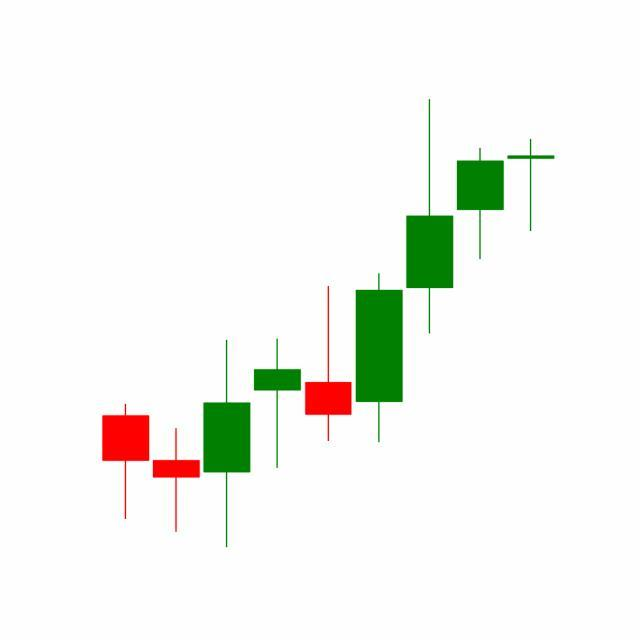Hikkake Pattern: (302, 99, 555, 448)
